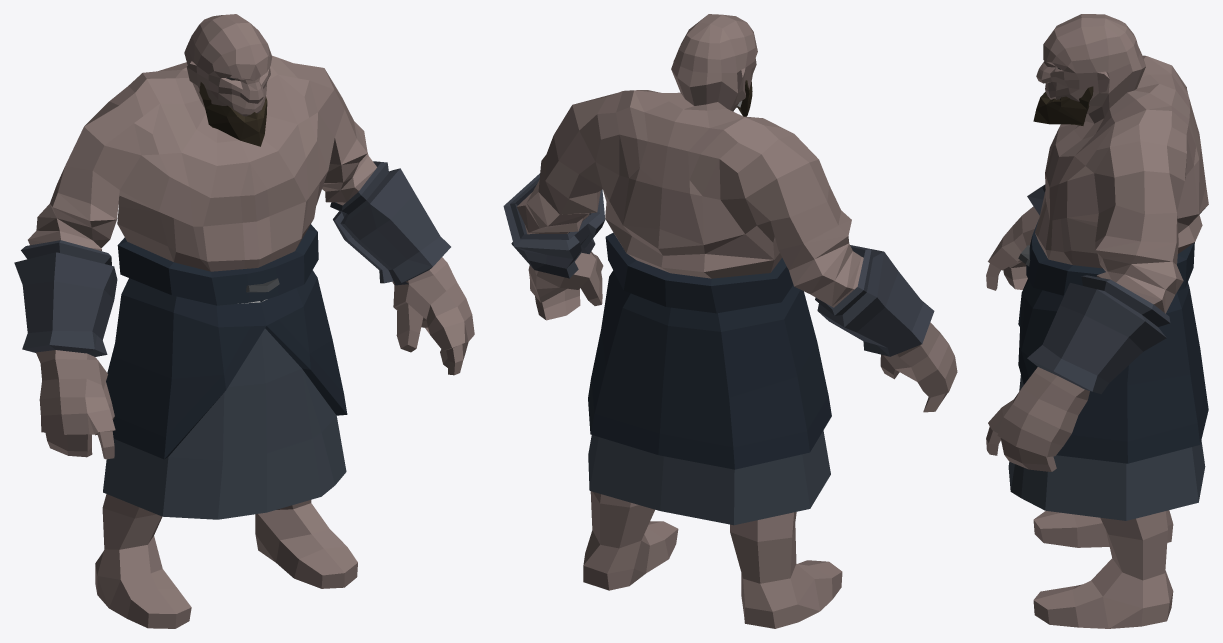
File: Giant New Model.fbx
3 views of the same model, side by side, from view 1: azimuth 30°, elevation 25°; view 2: azimuth 150°, elevation 25°; view 3: azimuth 270°, elevation 25° (orthographic).
Parts seen in each view (by area): view 1: Leg_L1; view 2: Leg_L1; view 3: Leg_L1.
Boxes of the visible parts, <box> form: Leg_L1: <box>14,14,474,628</box>; Leg_L1: <box>503,14,957,628</box>; Leg_L1: <box>986,14,1208,628</box>.
Size of the model in its own units: 270 by 345 by 125.
